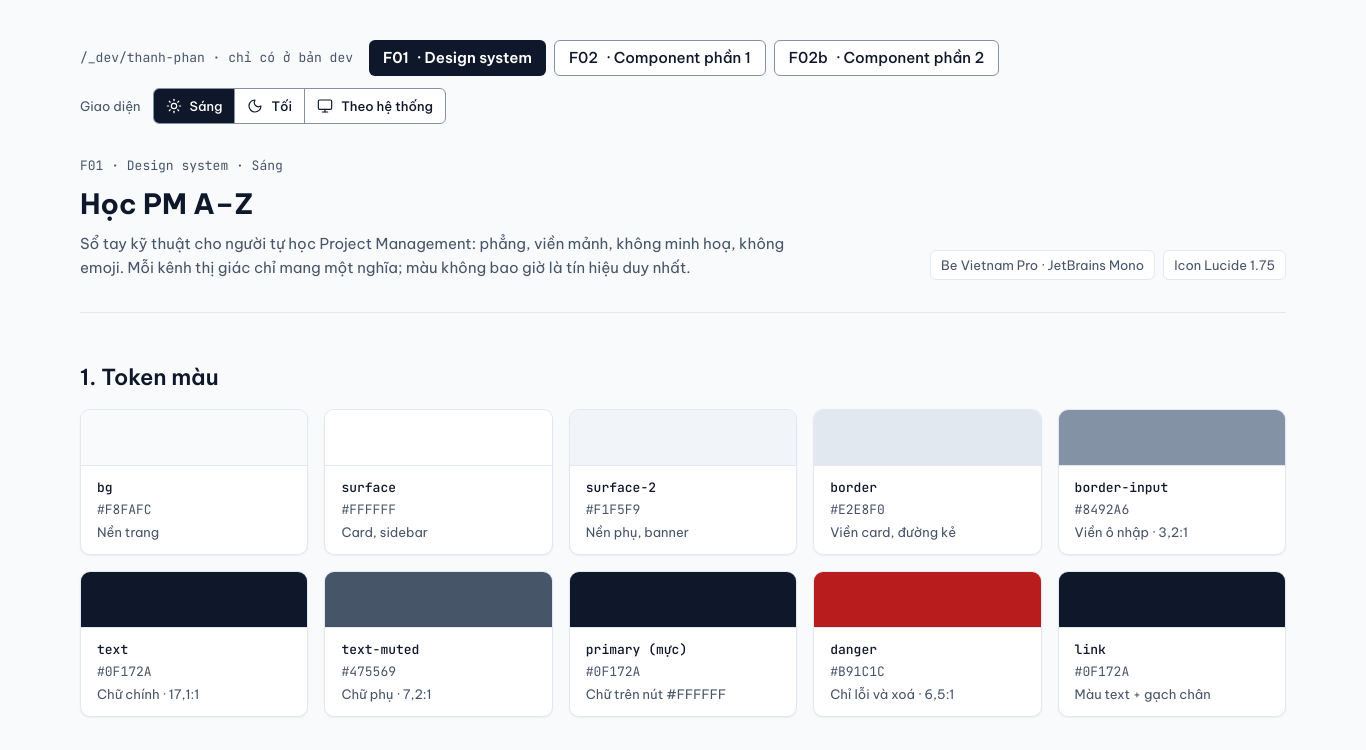
Scenario: thanh chuyển trang gallery › bấm F02 rồi F02b: đổi trang, đổi tiêu đề tab, giữ thanh chuyển trang
Check: the heading "Học PM A–Z" is shown, box left=80, top=186, right=253, bottom=221
Click the link "F02 · Component phần 1" at (660, 58), box left=554, top=40, right=766, bottom=76
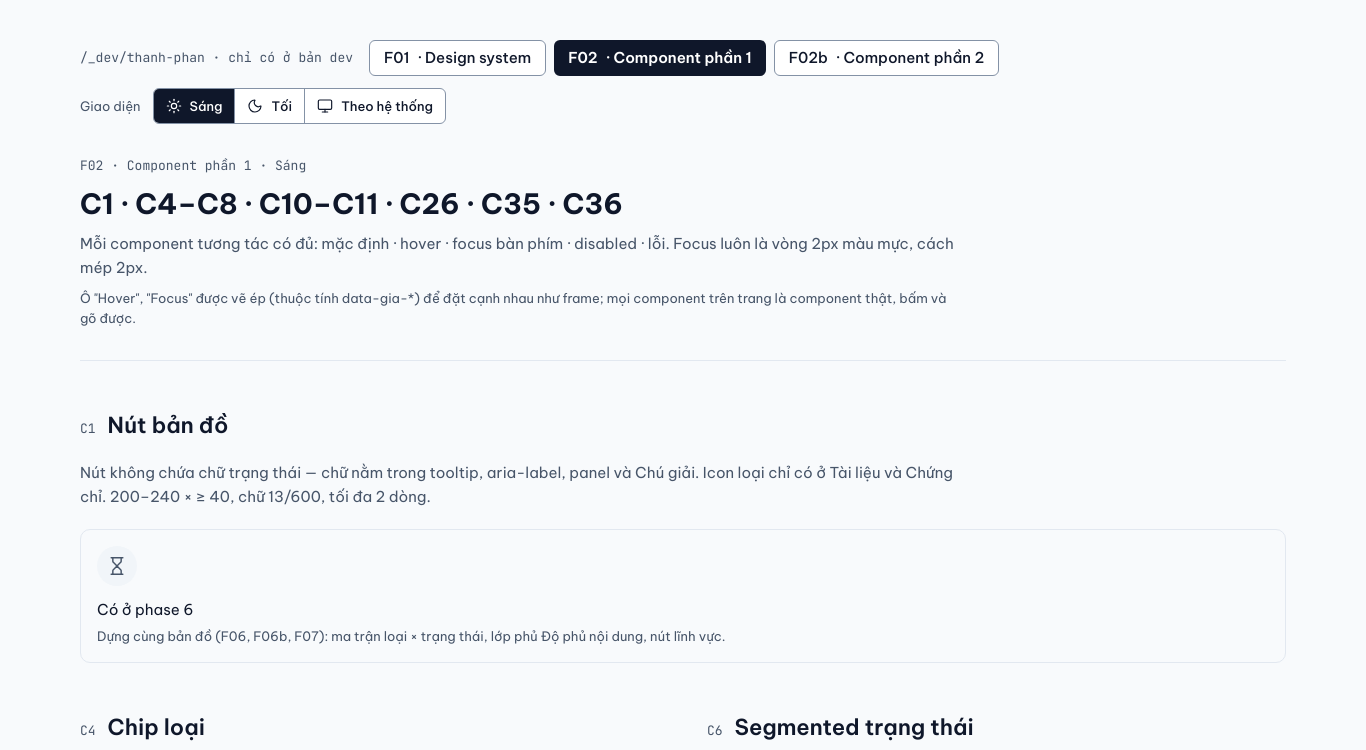
Check: the heading "C1 · C4–C8 · C10–C11 · C26 · C35 · C36" is shown, box left=80, top=186, right=623, bottom=221
Click the link "F02b · Component phần 2" at (886, 58), box left=774, top=40, right=999, bottom=76
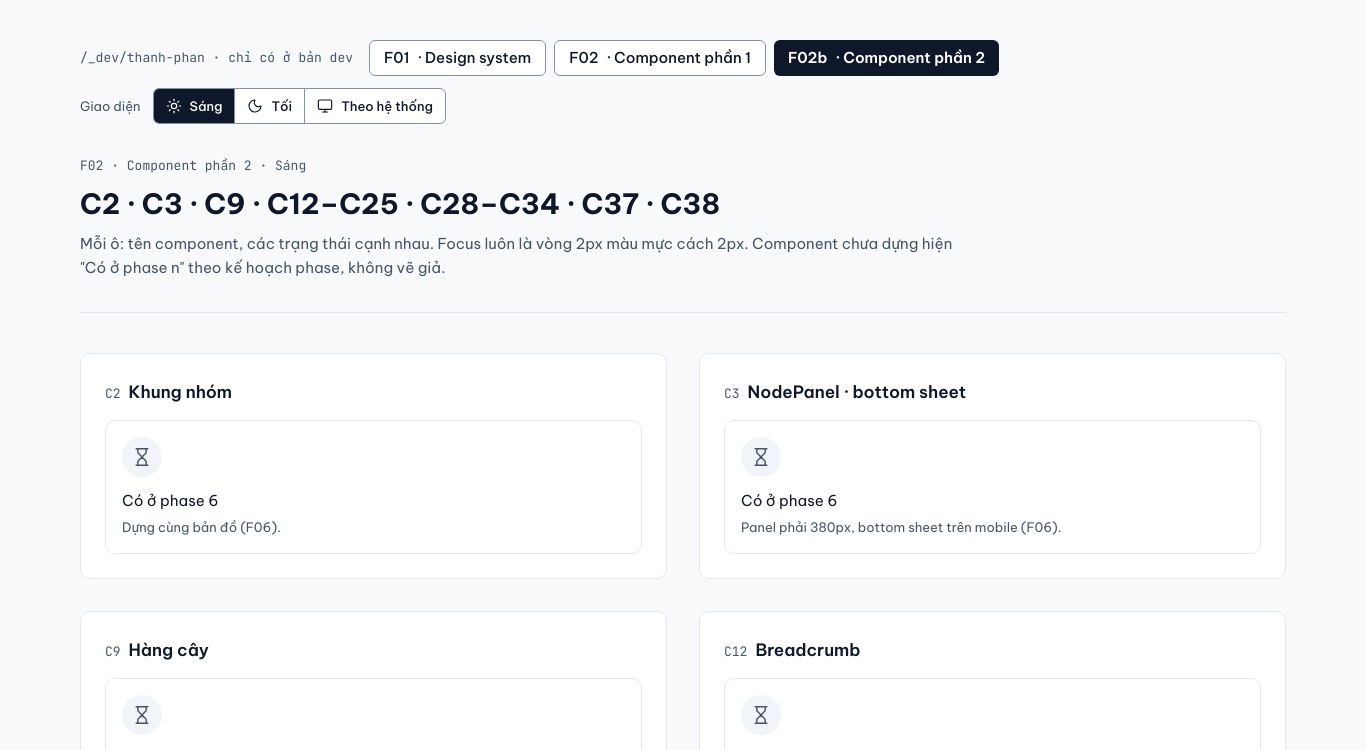
Check: the heading "C2 · C3 · C9 · C12–C25 · C28–C34 · C37 · C38" is shown, box left=80, top=186, right=720, bottom=221
